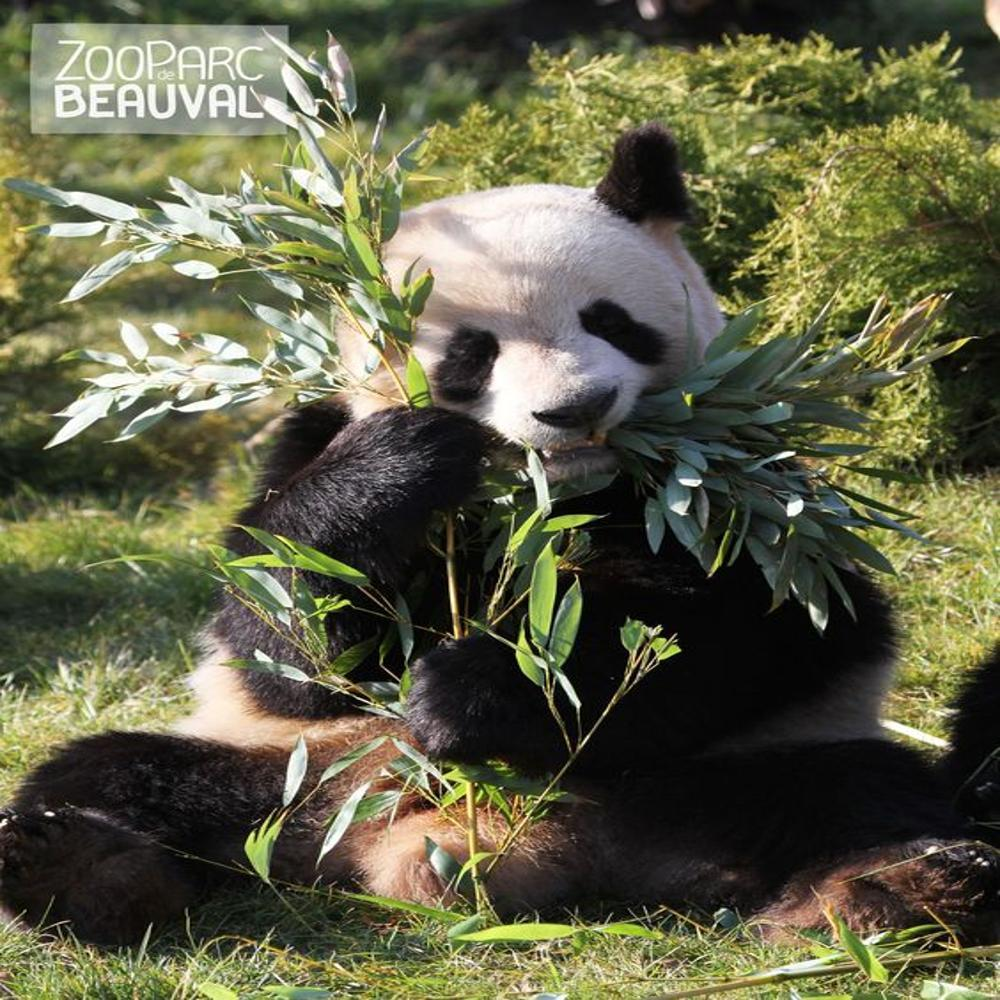panda: (54, 130, 916, 896)
